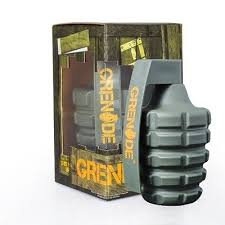e1: (123, 58, 212, 206)
